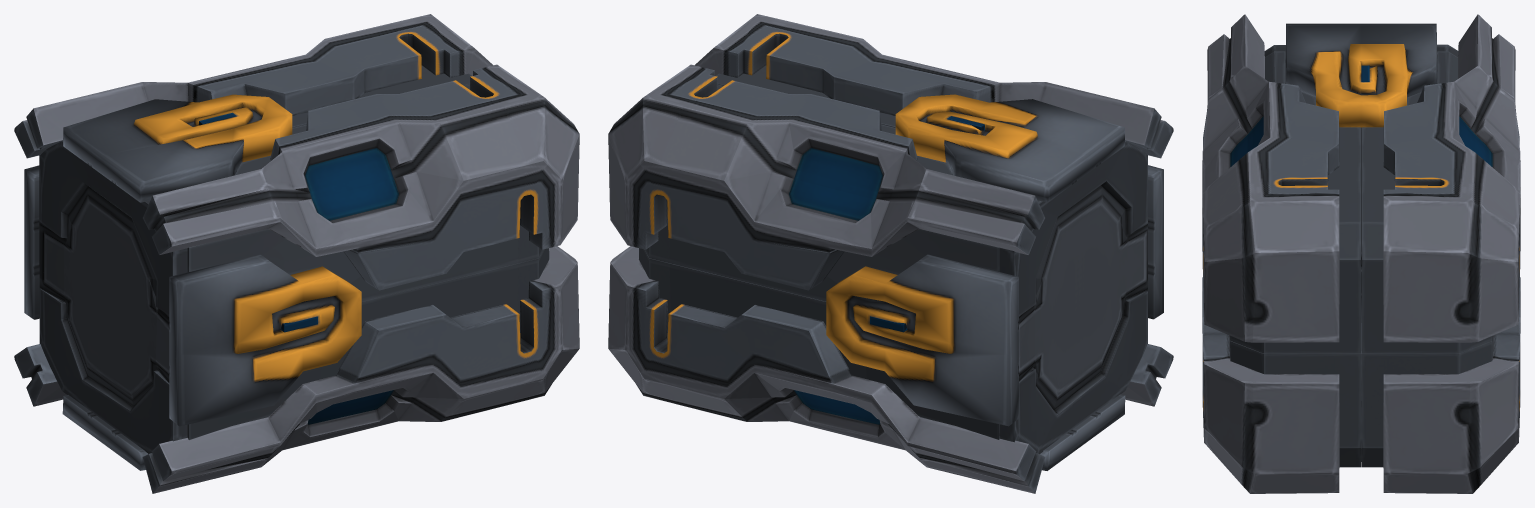
The model's file is LongMetalBix.glb.
3 renders of one model, left to right at view 1: azimuth 30°, elevation 25°; view 2: azimuth 150°, elevation 25°; view 3: azimuth 270°, elevation 25°, orthographic. The views are drawn at different scales.
Visible parts, largest first — view 1: node_id64, node_id67; view 2: node_id64, node_id67; view 3: node_id64, node_id67.
Boxes of the visible parts, x1,y1,x2,y2 form: node_id64: (14,14,579,493); node_id67: (198,112,398,424); node_id64: (608,14,1173,493); node_id67: (789,116,984,424); node_id64: (1202,14,1520,493); node_id67: (1230,65,1492,166).
Bounding box in the file's own units: 0.0683 × 0.0463 × 0.0452.
Materials: 2 (2 with a texture image).
